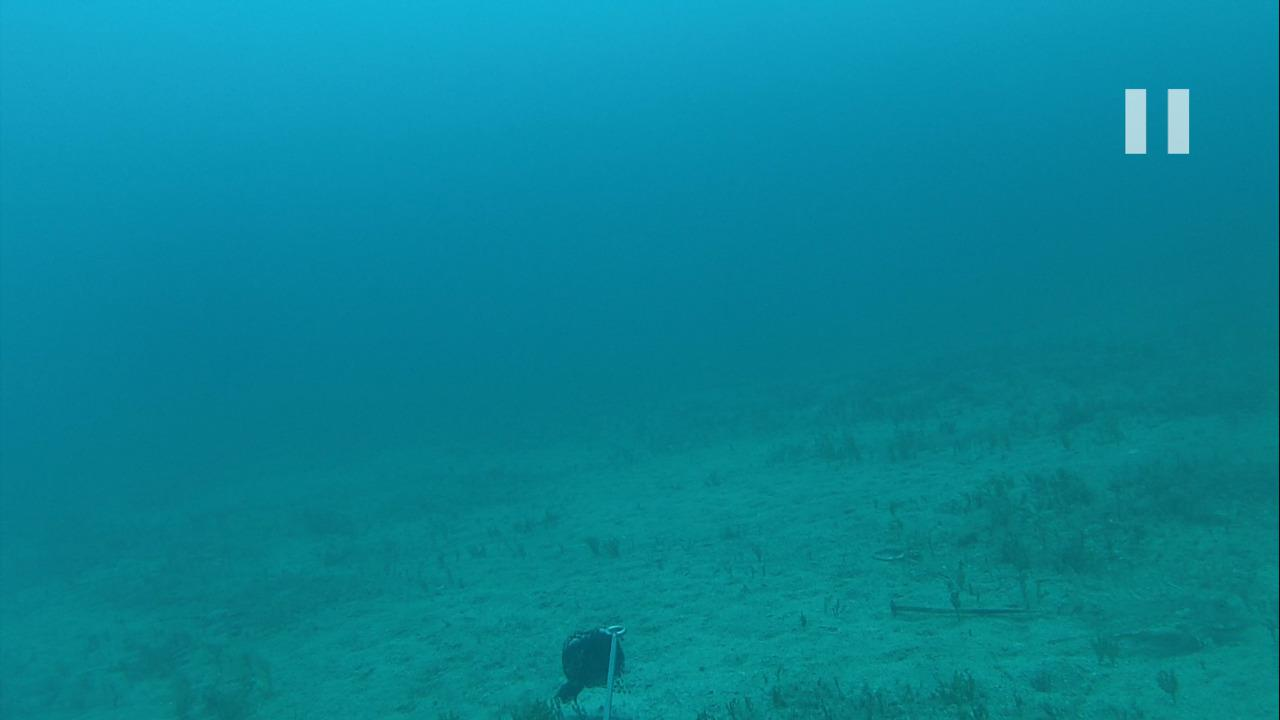dactylopterus: (884, 573, 1245, 668)
